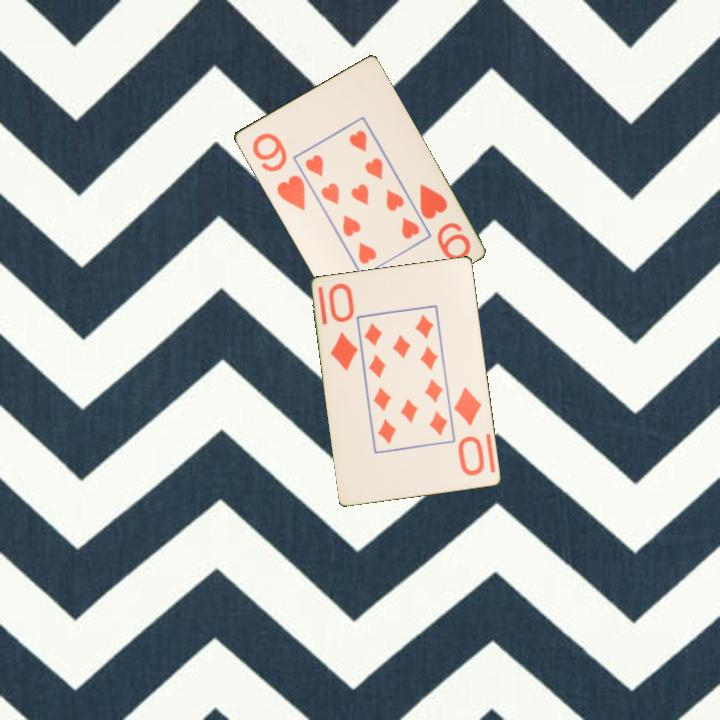10d: (450, 383, 488, 479), (325, 280, 361, 374)
9h: (248, 129, 308, 213), (415, 180, 473, 264)
